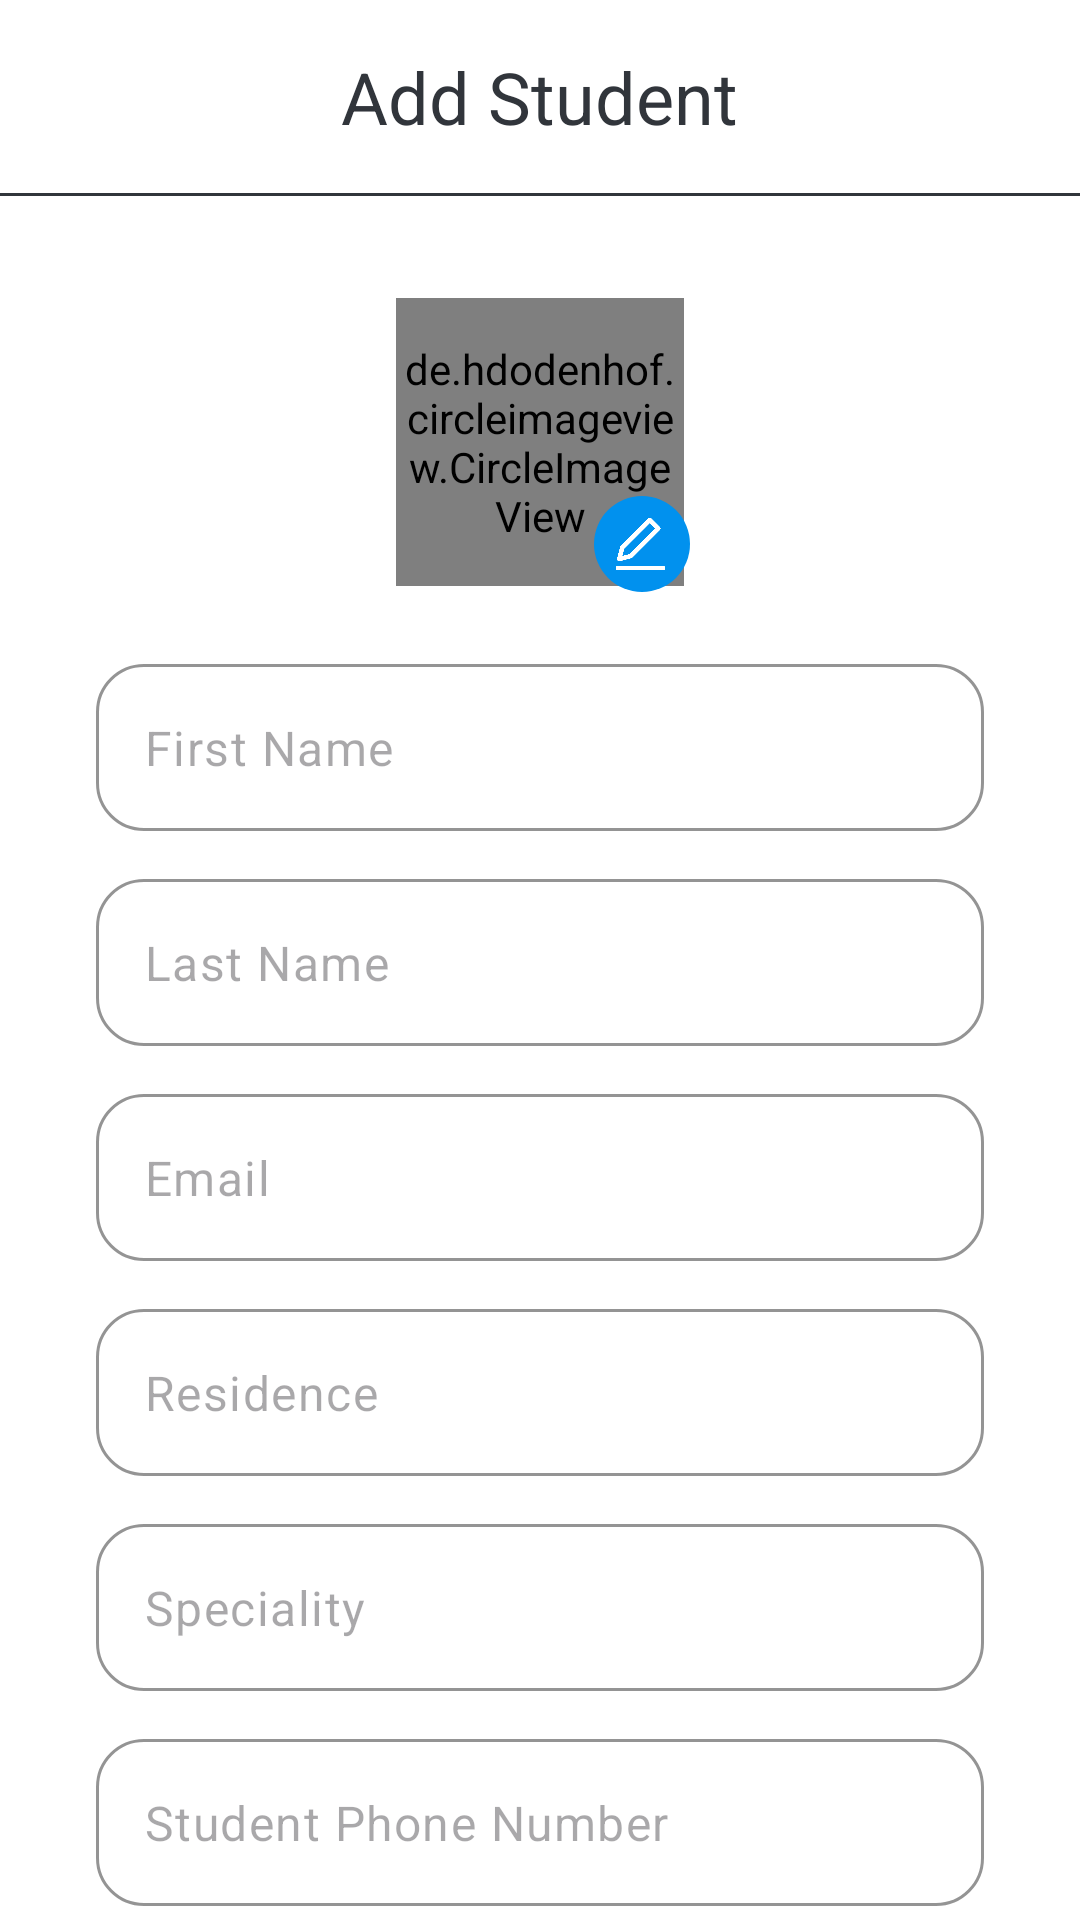

Named icons in this screenshot (1080 × 1920) and their bounding boxes, (x1, y1, x2, y2):
edit: (616, 518, 665, 570)
